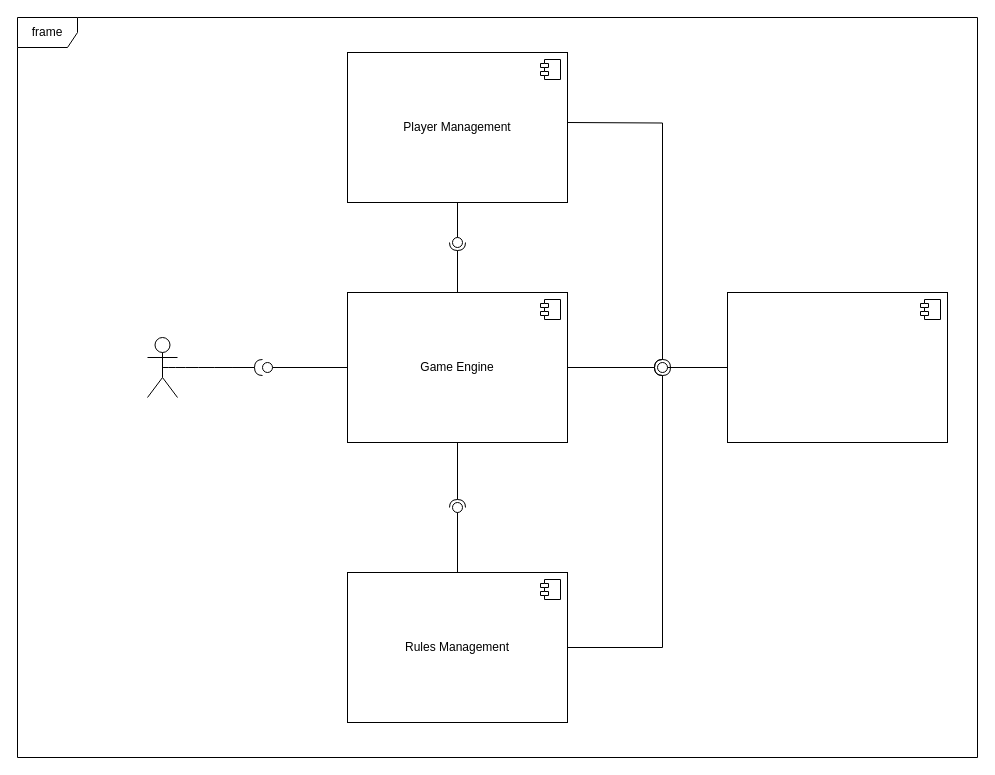
This 995x775 diagram has some shape labels left out. The shapes that lost their labels are listed below. From the top down, each one's centre as x and y in pixels, then its label:
At (162,367): "Actor".
At (837,367): "Cards Management".
